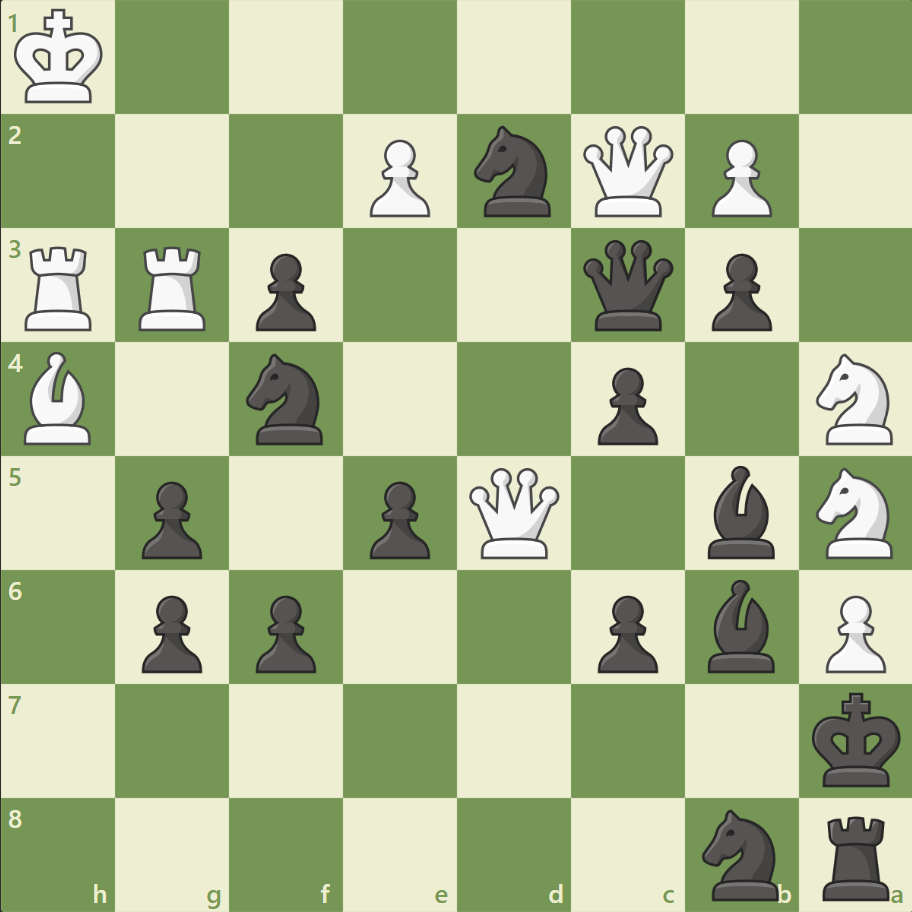B: (17, 347, 101, 449)
K: (11, 4, 111, 112)
N: (806, 461, 903, 564), (806, 348, 903, 450)
P: (701, 132, 776, 223), (815, 586, 889, 677), (361, 132, 435, 223)
Q: (578, 122, 677, 222), (464, 463, 563, 562)
R: (19, 239, 102, 336), (133, 239, 215, 336)
b: (698, 460, 782, 563), (698, 574, 782, 676)
k: (806, 685, 906, 793)
n: (692, 802, 789, 904), (238, 348, 335, 450), (465, 121, 562, 223)
p: (247, 586, 322, 677), (133, 586, 208, 677), (133, 473, 208, 564), (701, 246, 776, 337), (247, 246, 322, 337), (588, 586, 662, 677), (361, 473, 435, 564), (588, 359, 662, 450)
q: (578, 236, 677, 335)
r: (814, 806, 897, 904)
